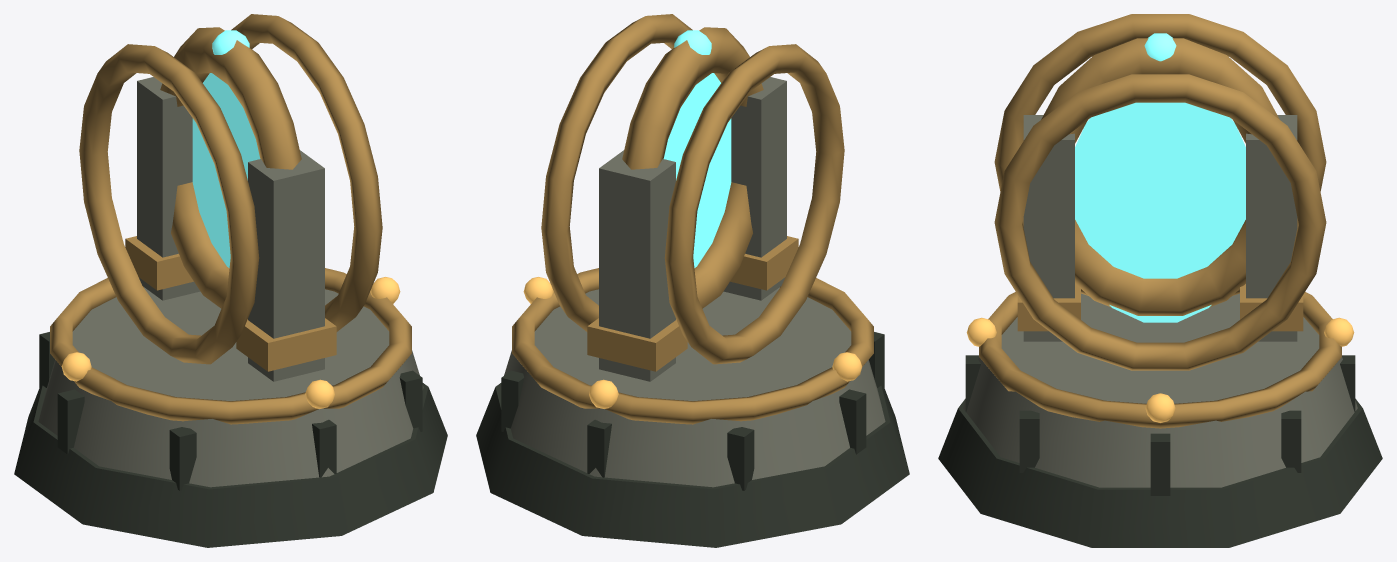
File: tower_portal_portalArch_ultimate.glb
3 renders of one model, left to right at view 1: azimuth 30°, elevation 25°; view 2: azimuth 150°, elevation 25°; view 3: azimuth 270°, elevation 25°, orthographic.
Visible parts, largest first — view 1: stone_1, foot_0, return_arch_21, arch_pillar_15, rim_2, arch_19, return_arch_22, arch_pillar_17, portal_surface_20, band_16, band_18, mortar_6 (+8 smaller); view 2: stone_1, foot_0, return_arch_21, arch_pillar_17, rim_2, arch_19, return_arch_22, arch_pillar_15, portal_surface_20, band_18, band_16, mortar_8 (+8 smaller); view 3: stone_1, foot_0, portal_surface_20, return_arch_22, arch_19, return_arch_21, rim_2, arch_pillar_15, arch_pillar_17, mortar_3, mortar_4, mortar_10 (+8 smaller).
Part boxes in pixels (x1=…): stone_1: x1=38, y1=287, x2=423, y2=487; foot_0: x1=14, y1=383, x2=447, y2=547; return_arch_21: x1=79, y1=44, x2=259, y2=364; arch_pillar_15: x1=248, y1=150, x2=324, y2=381; rim_2: x1=50, y1=268, x2=411, y2=424; arch_19: x1=160, y1=27, x2=301, y2=308; return_arch_22: x1=231, y1=14, x2=382, y2=331; arch_pillar_17: x1=137, y1=77, x2=200, y2=300; portal_surface_20: x1=192, y1=73, x2=260, y2=267; band_16: x1=236, y1=318, x2=336, y2=371; band_18: x1=125, y1=236, x2=193, y2=290; mortar_6: x1=169, y1=427, x2=196, y2=490; stone_1: x1=500, y1=287, x2=885, y2=487; foot_0: x1=476, y1=383, x2=909, y2=547; return_arch_21: x1=664, y1=44, x2=844, y2=364; arch_pillar_17: x1=599, y1=150, x2=675, y2=381; rim_2: x1=512, y1=268, x2=873, y2=424; arch_19: x1=622, y1=27, x2=763, y2=308; return_arch_22: x1=541, y1=14, x2=692, y2=331; arch_pillar_15: x1=723, y1=77, x2=786, y2=300; portal_surface_20: x1=663, y1=73, x2=731, y2=267; band_18: x1=587, y1=318, x2=687, y2=371; band_16: x1=730, y1=236, x2=798, y2=290; mortar_8: x1=727, y1=427, x2=754, y2=490; stone_1: x1=963, y1=293, x2=1357, y2=487; foot_0: x1=938, y1=398, x2=1382, y2=547; portal_surface_20: x1=1075, y1=102, x2=1245, y2=322; return_arch_22: x1=994, y1=74, x2=1326, y2=370; arch_19: x1=1041, y1=38, x2=1279, y2=315; return_arch_21: x1=994, y1=14, x2=1326, y2=295; rim_2: x1=979, y1=292, x2=1341, y2=428; arch_pillar_15: x1=1023, y1=115, x2=1074, y2=341; arch_pillar_17: x1=1246, y1=115, x2=1297, y2=341; mortar_3: x1=1150, y1=433, x2=1170, y2=495; mortar_4: x1=1019, y1=410, x2=1039, y2=472; mortar_10: x1=1281, y1=410, x2=1301, y2=472.
Size of the model in its own units: 0.5326 by 0.59 by 0.56.
